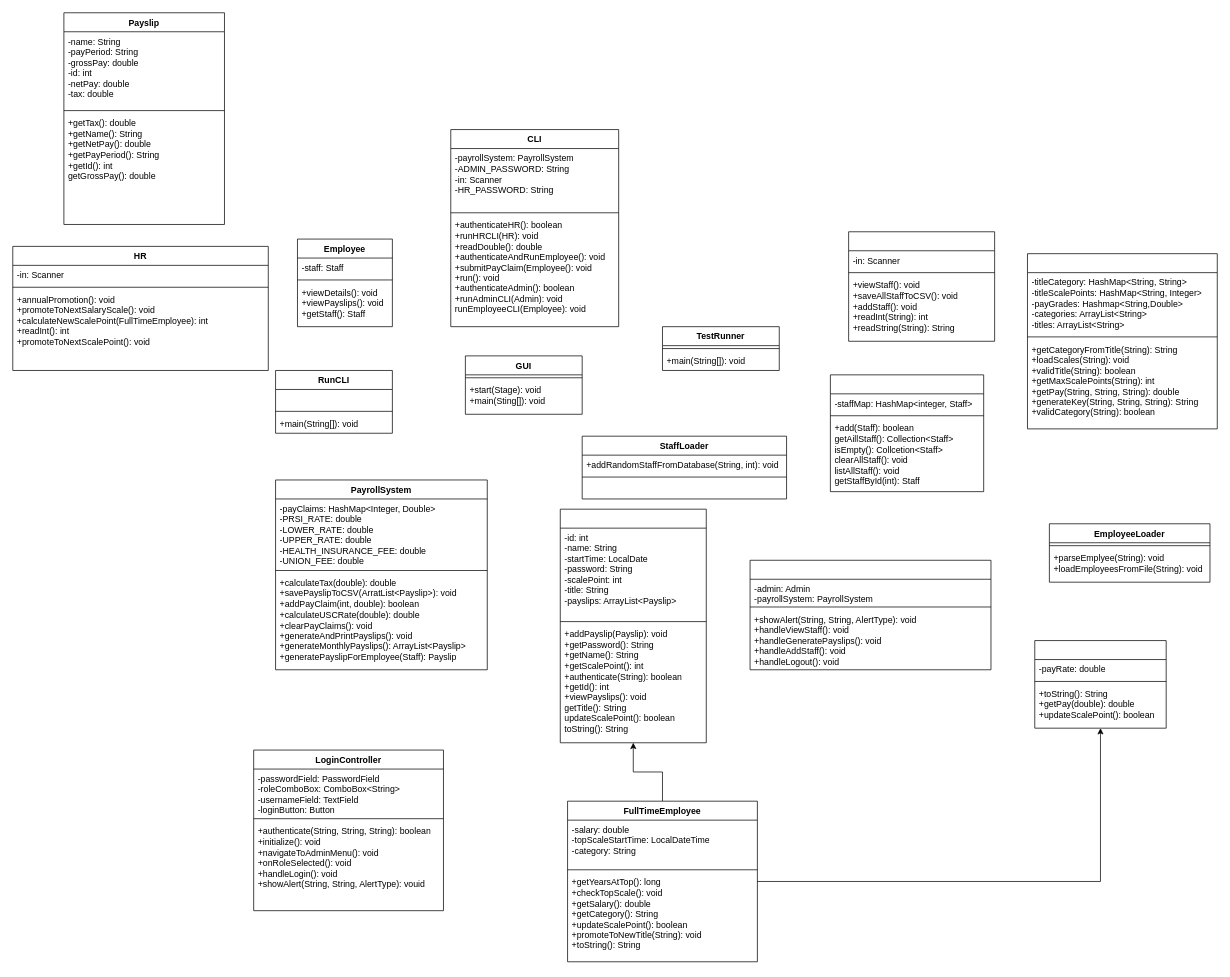
This 1230x977 diagram has some shape labels left out. Each missing label, with the box of its shape:
Admin: (848, 231, 995, 341)
AdminMenuController: (749, 560, 991, 670)
PartTimeEmployee: (1034, 640, 1166, 728)
ScaleLoader: (1027, 253, 1217, 429)
Staff: (560, 508, 706, 743)
StaffContainer: (830, 374, 984, 492)
